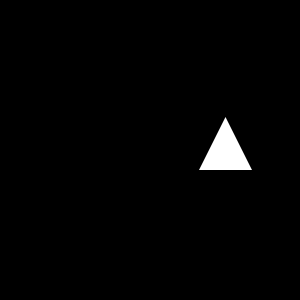triangle: (199, 117, 252, 170)
